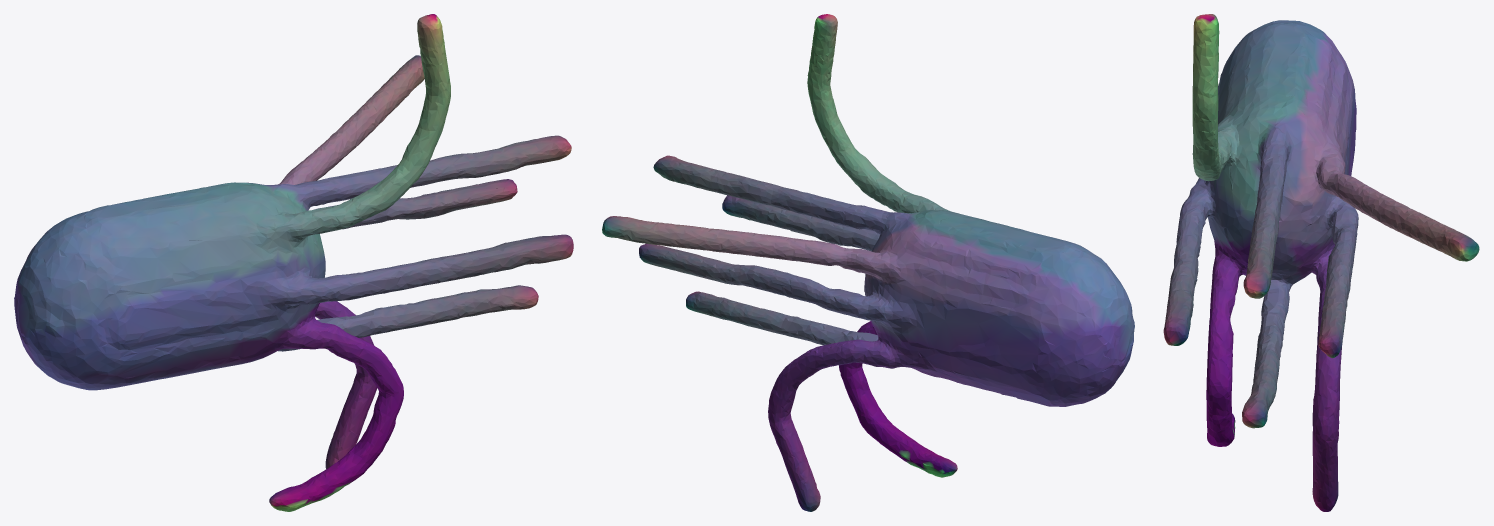
Rendered from octopus-18.off.obj.
3 renders of one model, left to right at view 1: azimuth 30°, elevation 25°; view 2: azimuth 150°, elevation 25°; view 3: azimuth 270°, elevation 25°, orthographic. The views are drawn at different scales.
Bounding box in the file's own units: 1.64 × 1.46 × 0.8104.
